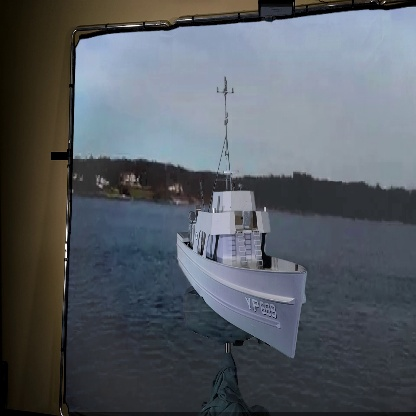YP689: (174, 75, 309, 362)
